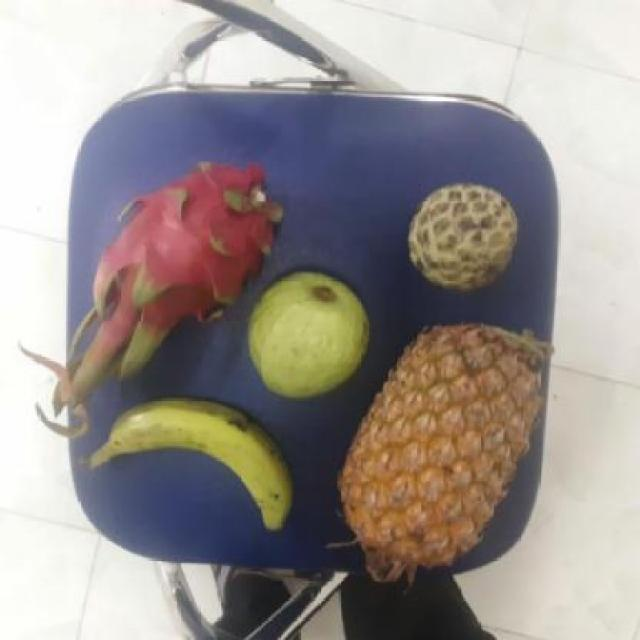banana: (108, 394, 298, 534)
dragon fruit: (95, 160, 278, 322)
guava: (240, 270, 371, 396)
pineapple: (332, 326, 543, 576)
sugar apple: (404, 182, 521, 288)
